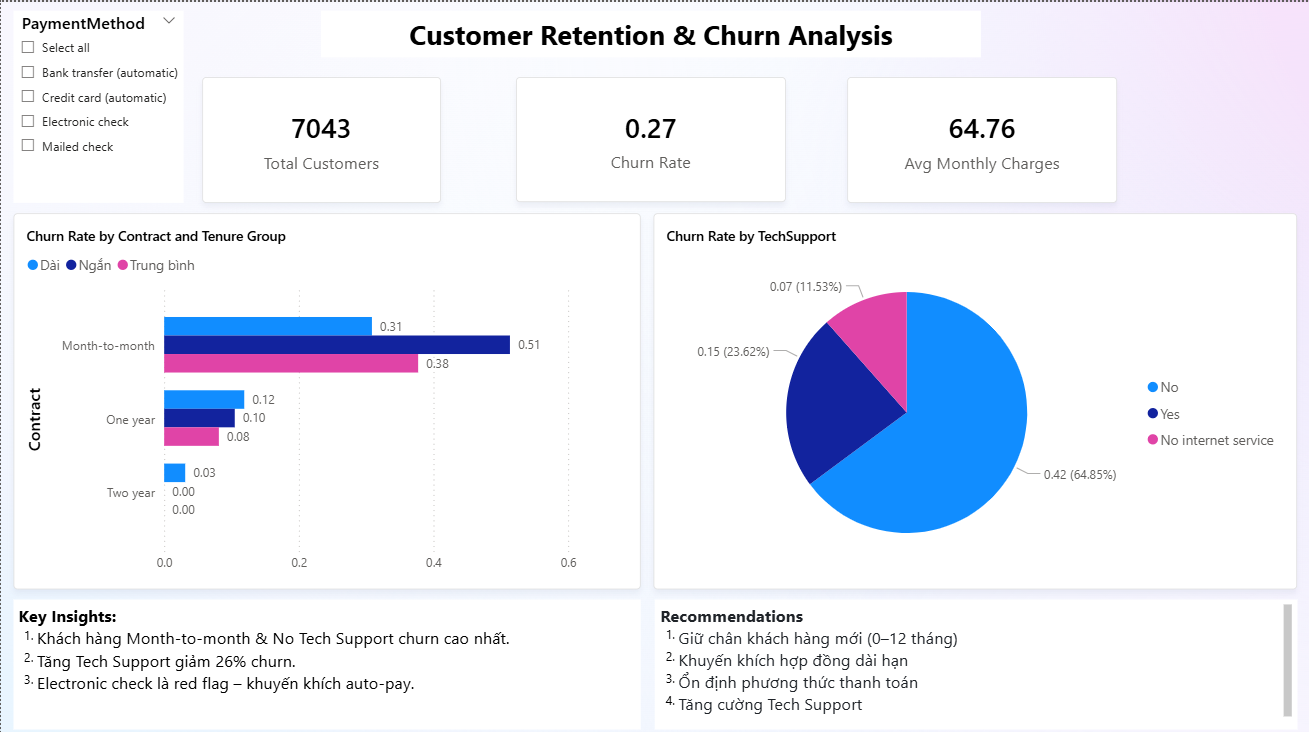

What the dashboard file says about the page in this screenshot:
{"tool":"powerbi","page":{"name":"Page 1","canvas":[1280,720],"ordinal":0},"visuals":[{"type":"textbox","box":[313,8.6,645.7,45.2],"z":0},{"type":"card","fields":{"Values":["Telco-Customer-Churn-EDA.Total Customers"]},"box":[196.9,73.4,233.6,123.5],"z":1000},{"type":"card","fields":{"Values":["Telco-Customer-Churn-EDA.Churn Rate"]},"box":[503.8,73.4,264.1,122.3],"z":2000},{"type":"card","fields":{"Values":["Telco-Customer-Churn-EDA.Avg Monthly Charges"]},"box":[827.9,73.4,264.1,123.5],"z":3000},{"type":"clusteredBarChart","fields":{"Y":["Telco-Customer-Churn-EDA.Churn Rate"],"Category":["Telco-Customer-Churn-EDA.Contract"],"Series":["Telco-Customer-Churn-EDA.Tenure Group"]},"box":[12.2,206.7,613.9,368.1],"z":4000},{"type":"pieChart","fields":{"Y":["Telco-Customer-Churn-EDA.Churn Rate"],"Category":["Telco-Customer-Churn-EDA.TechSupport"]},"box":[638.3,206.7,629.8,368.1],"z":5000},{"type":"slicer","fields":{"Values":["Telco-Customer-Churn-EDA.PaymentMethod"]},"box":[12.2,8.6,166.3,188.3],"z":6000},{"type":"textbox","box":[12.2,584.5,613.9,127.2],"z":7000},{"type":"textbox","box":[639.5,584.5,628.5,127.2],"z":8000}]}

Visuals, with their boxes in screenshot pixels (x1, y1, x2, y2), scaled from the page's 1280x720 canvas onto the 1309x732 screenshot:
textbox: 320 9 980 55
card - Telco-Customer-Churn-EDA.Total Customers: 201 75 440 200
card - Telco-Customer-Churn-EDA.Churn Rate: 515 75 785 199
card - Telco-Customer-Churn-EDA.Avg Monthly Charges: 847 75 1117 200
clusteredBarChart - Telco-Customer-Churn-EDA.Churn Rate x Telco-Customer-Churn-EDA.Contract: 12 210 640 584
pieChart - Telco-Customer-Churn-EDA.Churn Rate x Telco-Customer-Churn-EDA.TechSupport: 653 210 1297 584
slicer - Telco-Customer-Churn-EDA.PaymentMethod: 12 9 183 200
textbox: 12 594 640 724
textbox: 654 594 1297 724
